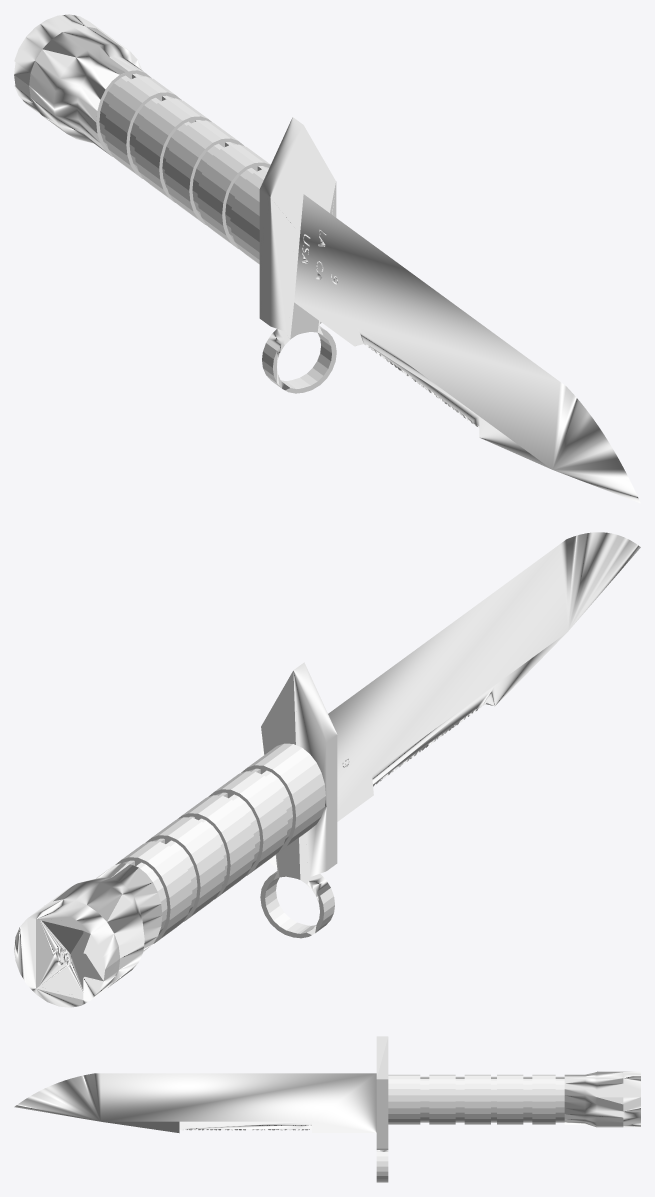
The model's file is model_align.obj.
3 renders of one model, top to bottom at view 1: azimuth 30°, elevation 25°; view 2: azimuth 150°, elevation 25°; view 3: azimuth 270°, elevation 25°, orthographic. The views are drawn at different scales.
Bounding box in the file's own units: 0.0208 × 0.059 × 0.233.
Materials: 3 (3 with a texture image).
